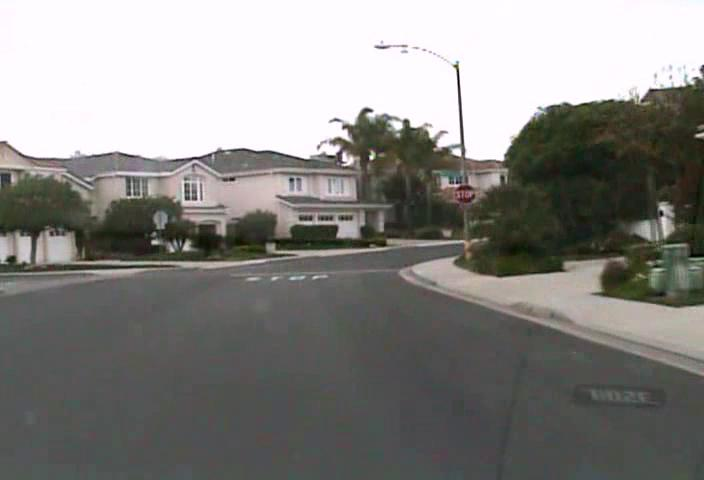stop: (453, 182, 476, 206)
